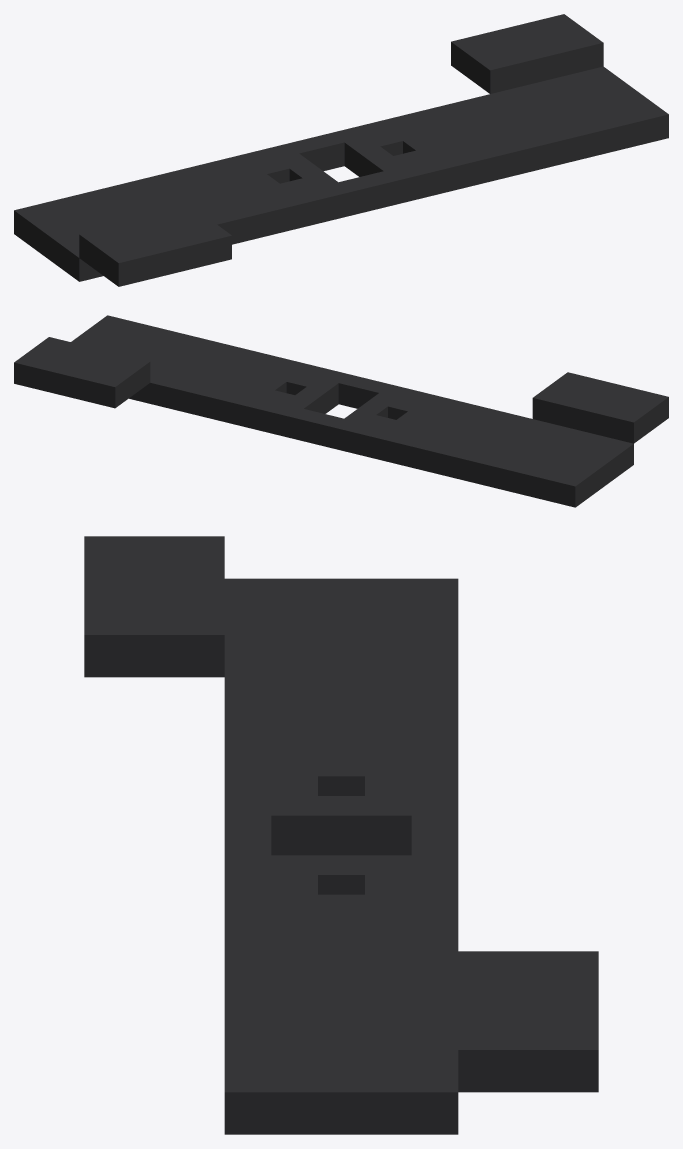
The model's file is lawn mower blade.obj.
3 renders of one model, top to bottom at view 1: azimuth 30°, elevation 25°; view 2: azimuth 150°, elevation 25°; view 3: azimuth 270°, elevation 25°, orthographic. The views are drawn at different scales.
Size of the model in its own units: 2.6 by 0.2 by 1.1.
1 material, 1 textured.
